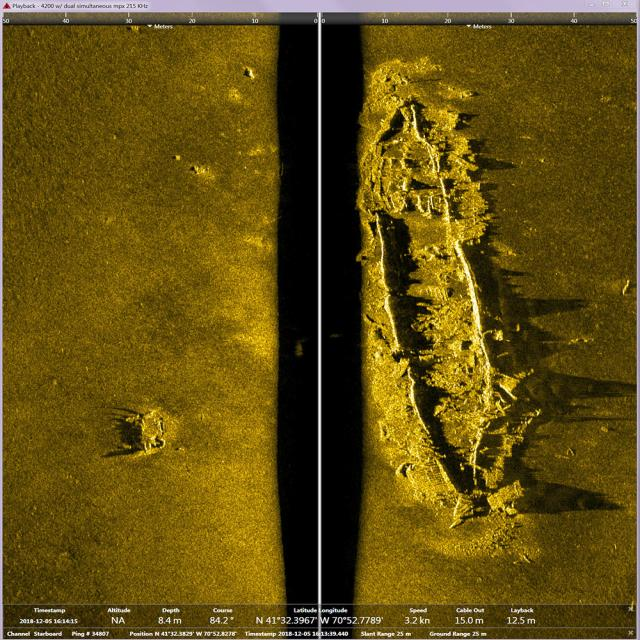ship: (349, 95, 519, 523)
